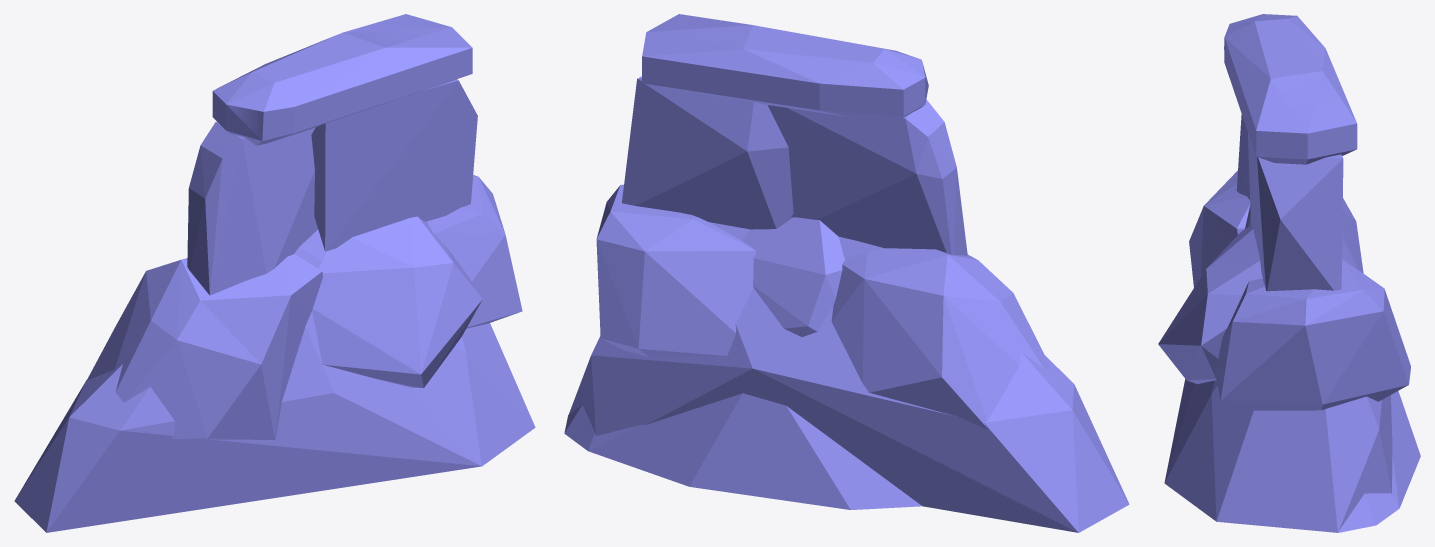
File: Cliff_Fin_01_Slope_Collider_01.FBX
The picture shows the model from 3 angles, left to right: view 1: azimuth 30°, elevation 25°; view 2: azimuth 150°, elevation 25°; view 3: azimuth 270°, elevation 25°; orthographic projection. The views are drawn at different scales.
Visible parts, largest first — view 1: COLLIDER3, COLLIDER5, COLLIDER6, COLLIDER7, COLLIDER1, COLLIDER2, COLLIDER4; view 2: COLLIDER3, COLLIDER5, COLLIDER2, COLLIDER8, COLLIDER4, COLLIDER1, COLLIDER7, COLLIDER6; view 3: COLLIDER3, COLLIDER4, COLLIDER1, COLLIDER7, COLLIDER6, COLLIDER5, COLLIDER8, COLLIDER2.
Part boxes in pixels (x1,y1,x2,y2): COLLIDER3: (14, 229, 535, 532); COLLIDER5: (87, 254, 322, 439); COLLIDER6: (312, 216, 482, 388); COLLIDER7: (311, 79, 477, 251); COLLIDER1: (212, 14, 472, 145); COLLIDER2: (187, 121, 317, 295); COLLIDER4: (427, 175, 522, 328); COLLIDER3: (569, 222, 1129, 532); COLLIDER5: (831, 248, 1051, 430); COLLIDER2: (767, 99, 967, 255); COLLIDER8: (564, 393, 921, 509); COLLIDER4: (596, 184, 756, 357); COLLIDER1: (642, 14, 928, 117); COLLIDER7: (622, 76, 793, 229); COLLIDER6: (742, 217, 844, 336); COLLIDER3: (1164, 205, 1392, 532); COLLIDER4: (1215, 258, 1410, 410); COLLIDER1: (1224, 14, 1357, 164); COLLIDER7: (1248, 133, 1343, 291); COLLIDER6: (1158, 226, 1357, 384); COLLIDER5: (1189, 170, 1363, 287); COLLIDER8: (1338, 391, 1420, 532); COLLIDER2: (1236, 114, 1249, 199).
Size of the model in its own units: 619 by 463 by 287.
